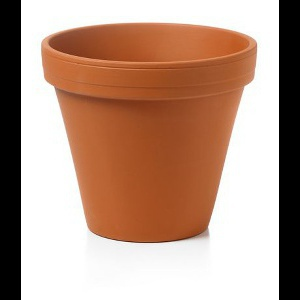flowerpot: (42, 22, 258, 243)
